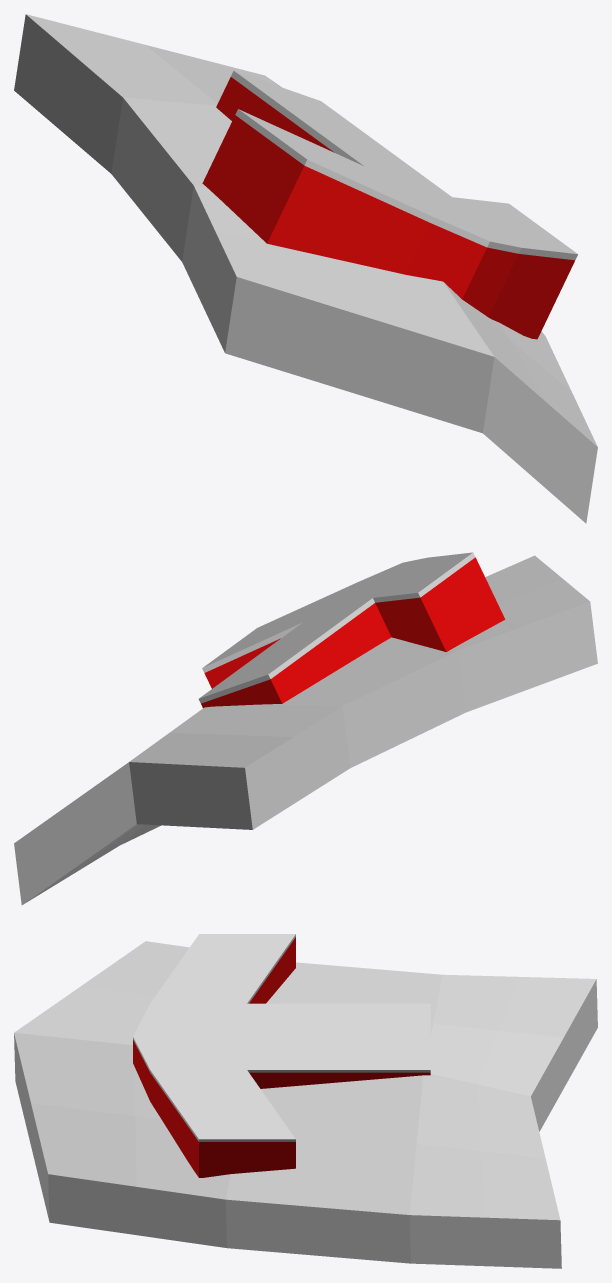
File: Arrow 1.fbx
3 views of the same model, one above another, from view 1: azimuth 30°, elevation 25°; view 2: azimuth 150°, elevation 25°; view 3: azimuth 270°, elevation 25° (orthographic). The views are drawn at different scales.
Parts seen in each view (by area): view 1: Cube; view 2: Cube; view 3: Cube.
Boxes of the visible parts, left/top/right/bottom form: Cube: left=14, top=14, right=597, bottom=523; Cube: left=14, top=552, right=597, bottom=905; Cube: left=14, top=934, right=597, bottom=1268.
Size of the model in its own units: 133 by 95.05 by 219.
